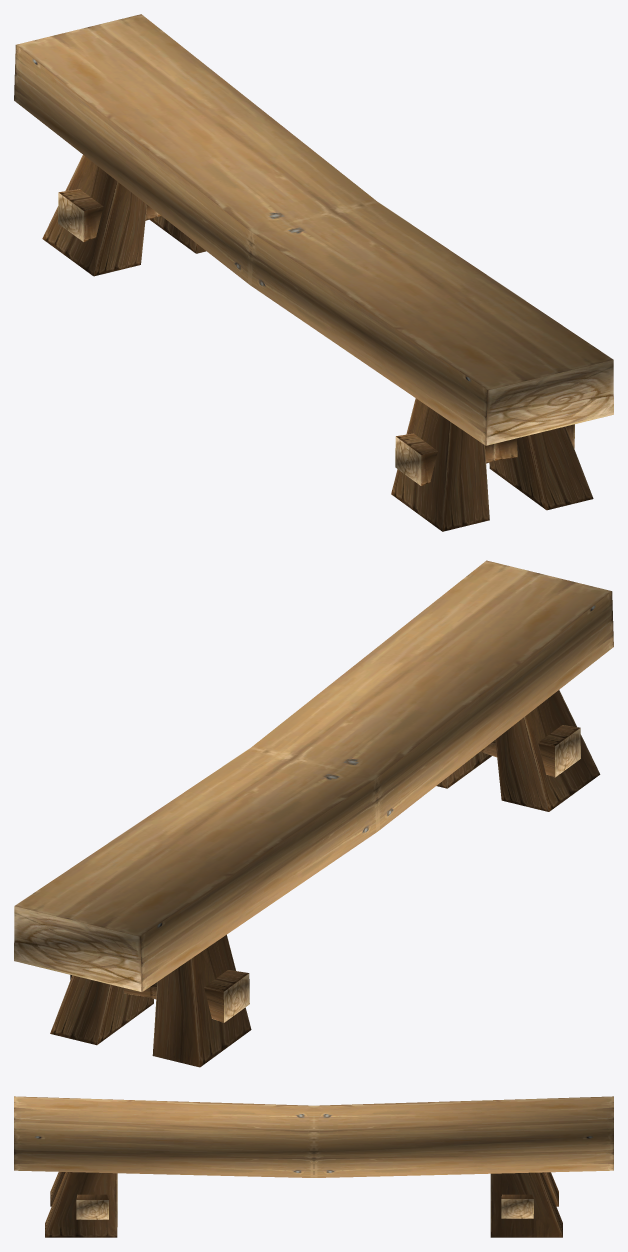
The model's file is innbench.obj.
3 renders of one model, top to bottom at view 1: azimuth 30°, elevation 25°; view 2: azimuth 150°, elevation 25°; view 3: azimuth 270°, elevation 25°, orthographic. The views are drawn at different scales.
Visible parts, largest first — view 1: innbench.m2; view 2: innbench.m2; view 3: innbench.m2.
Part boxes in pixels (left/top/right/bottom): innbench.m2: left=14, top=14, right=613, bottom=531; innbench.m2: left=14, top=560, right=613, bottom=1067; innbench.m2: left=14, top=1096, right=613, bottom=1237.
Bounding box in the file's own units: 0.8077 × 0.7773 × 4.2.
1 material, 1 textured.
